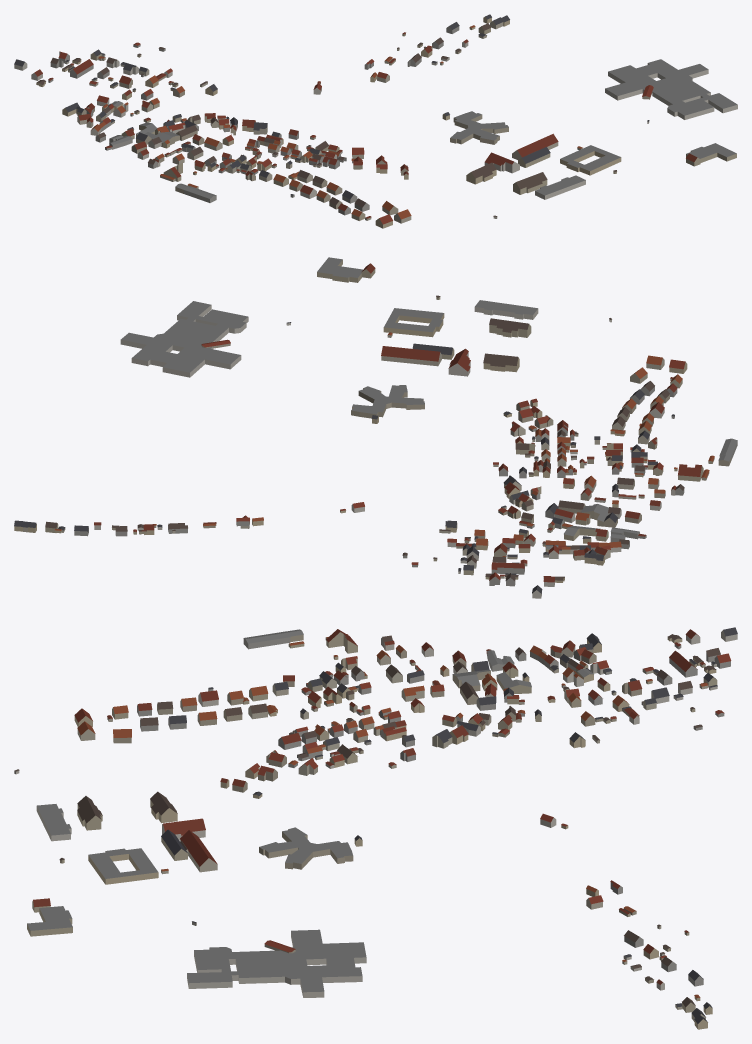
3 views of the same model, one above another, from view 1: azimuth 30°, elevation 25°; view 2: azimuth 150°, elevation 25°; view 3: azimuth 270°, elevation 25° (orthographic). The views are drawn at different scales.
Visible parts, largest first — view 1: buildings; view 2: buildings; view 3: buildings.
Part boxes in pixels (box(x1,y1,x2,y2)): buildings: box(14, 14, 737, 228); buildings: box(14, 257, 737, 598); buildings: box(14, 627, 737, 1029).
Bounding box in the file's own units: 766 × 98.2 × 681.
